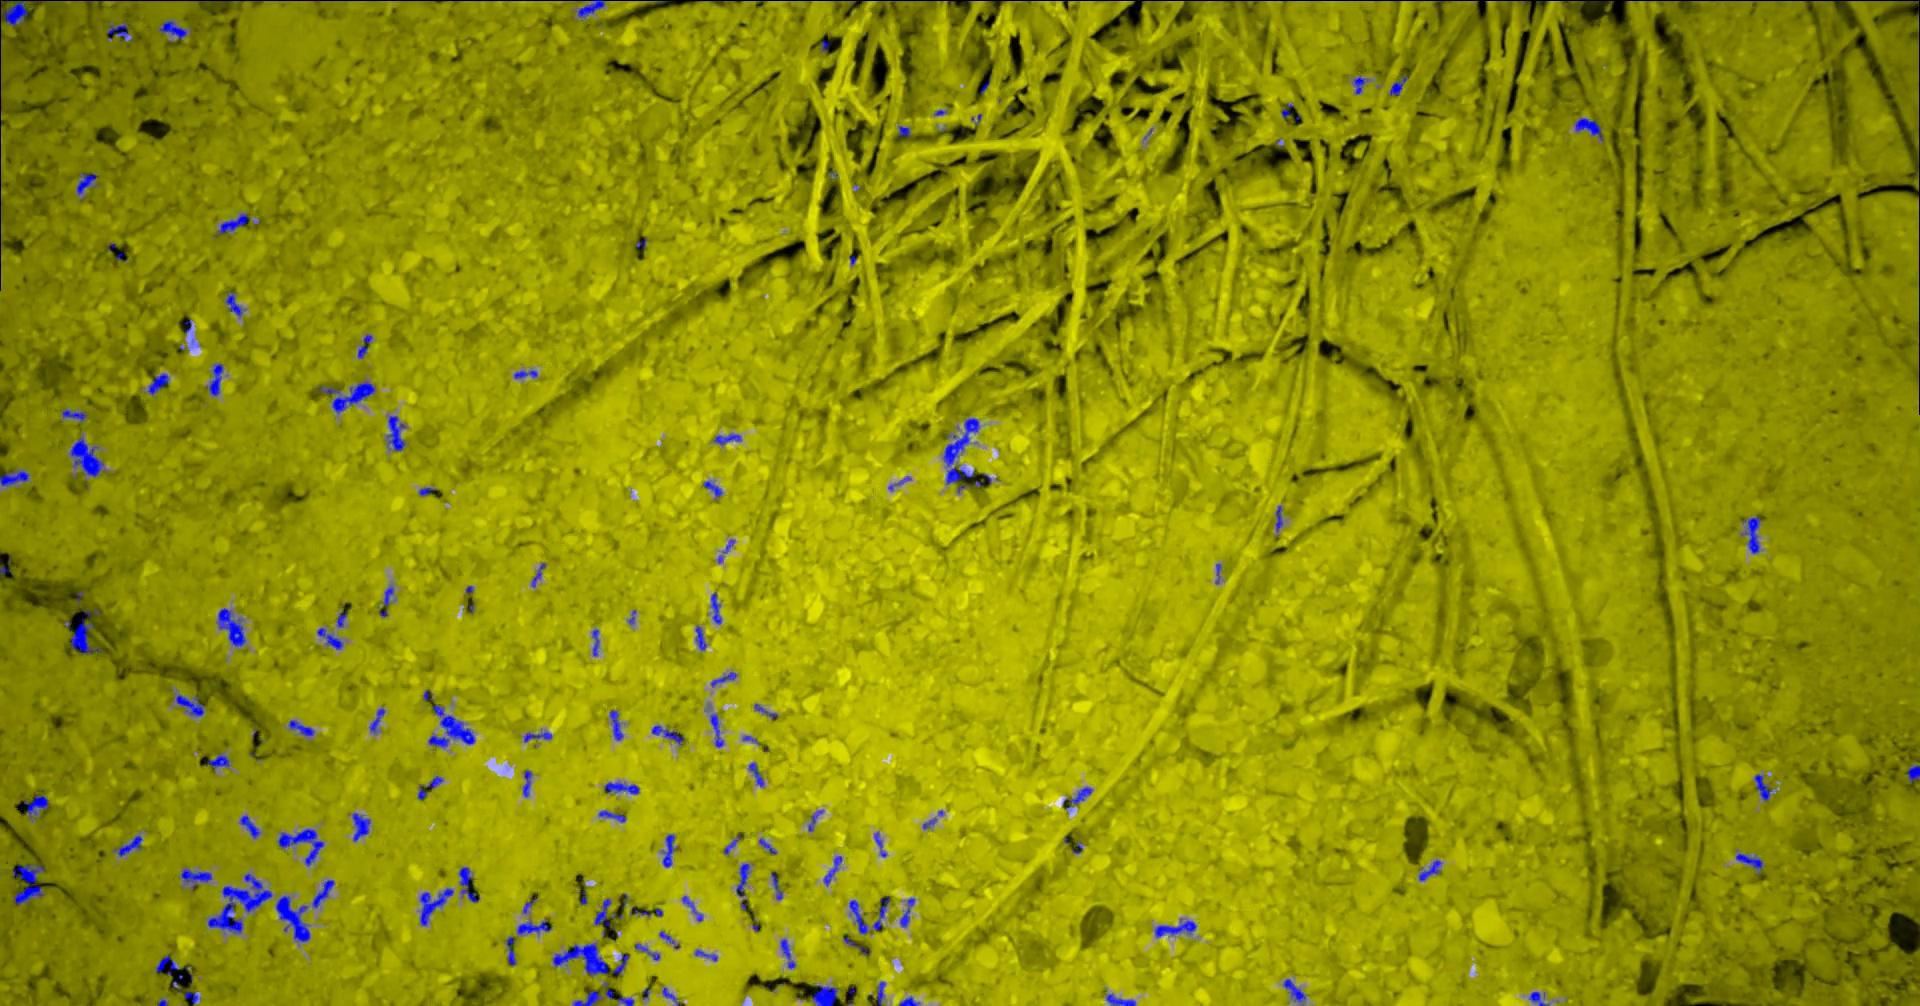ant: (277, 879, 337, 941), (945, 417, 982, 484), (429, 704, 477, 747), (554, 942, 610, 976), (321, 381, 377, 413), (279, 828, 325, 865), (850, 895, 891, 934), (1, 0, 62, 25), (71, 436, 105, 476), (13, 862, 44, 904), (422, 887, 455, 925), (71, 617, 103, 654), (218, 607, 248, 647), (574, 982, 615, 1005), (596, 898, 623, 926), (460, 866, 481, 902), (1156, 920, 1197, 937), (1743, 514, 1763, 553), (1576, 117, 1605, 140), (737, 862, 750, 909), (389, 415, 408, 450), (182, 868, 213, 888), (177, 694, 204, 716), (218, 213, 249, 234), (1064, 788, 1095, 808), (419, 775, 444, 799), (653, 725, 684, 744), (25, 794, 50, 818), (317, 627, 344, 649), (77, 171, 98, 199), (353, 812, 372, 841), (118, 835, 143, 856), (161, 19, 188, 39), (1737, 854, 1764, 874), (825, 855, 843, 885), (813, 984, 839, 1005), (208, 363, 225, 395), (1284, 978, 1307, 1001), (157, 954, 182, 976), (1420, 859, 1443, 880), (684, 895, 703, 921), (711, 713, 725, 747), (518, 920, 552, 934), (844, 936, 871, 954), (149, 373, 170, 395), (241, 815, 262, 838), (579, 0, 607, 17), (604, 781, 640, 794), (636, 942, 662, 960), (1, 470, 30, 485), (782, 939, 797, 968), (290, 719, 316, 735), (204, 753, 231, 770), (1756, 774, 1773, 800), (381, 586, 395, 616), (611, 710, 625, 741), (108, 23, 133, 39), (227, 291, 244, 316), (370, 708, 386, 733), (1390, 74, 1410, 95), (902, 897, 916, 926), (359, 333, 375, 358), (712, 671, 738, 686), (664, 835, 676, 868), (1107, 992, 1137, 1005), (749, 762, 764, 786), (809, 809, 825, 831), (532, 563, 547, 586), (756, 702, 778, 718), (63, 408, 88, 422), (703, 480, 724, 497), (725, 833, 742, 854), (714, 433, 743, 445), (615, 953, 630, 974), (599, 810, 627, 822), (664, 987, 682, 1005), (712, 592, 723, 622), (875, 832, 888, 856), (772, 873, 783, 899), (507, 936, 517, 965), (761, 837, 778, 854), (697, 625, 709, 650), (696, 949, 719, 962), (182, 989, 201, 1005), (1355, 74, 1369, 94), (524, 730, 552, 741), (1530, 991, 1550, 1005), (524, 768, 533, 796), (1909, 763, 1920, 782), (877, 981, 886, 1005), (900, 995, 921, 1005), (516, 370, 538, 379), (593, 629, 601, 655), (1277, 506, 1284, 531), (618, 996, 635, 1005), (899, 124, 912, 135)
